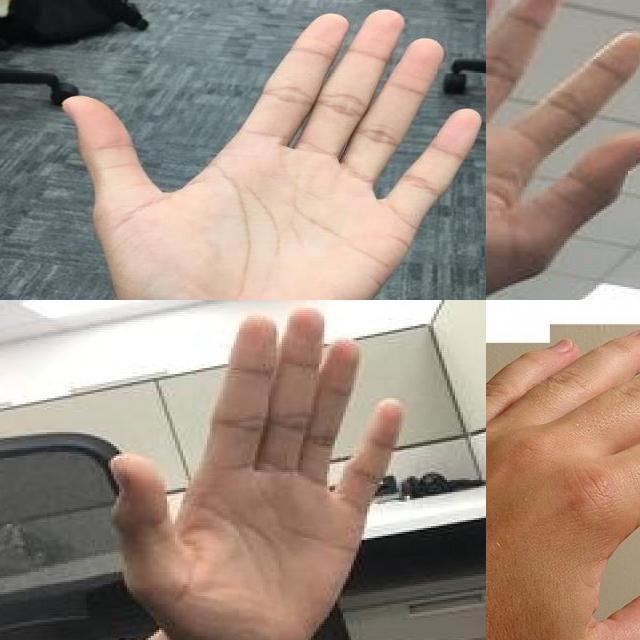no-gloves: (59, 6, 484, 300), (92, 302, 444, 640), (486, 323, 640, 640), (486, 0, 640, 300)
